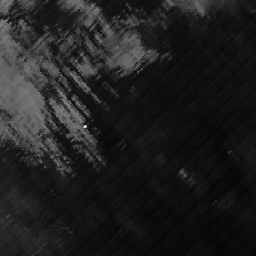Target: (81, 122, 88, 129)
